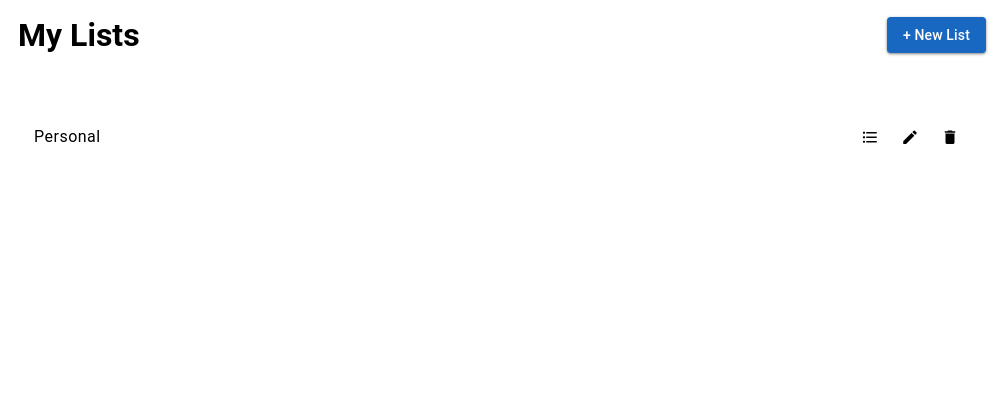
Test: Feature 3 — Todo List Item Management › US-3.2 — View tasks in a list › List items dialog shows empty state
Step 1. Click the button named "View items for Personal" → {"x": 870, "y": 137}, box [850,117,890,157]
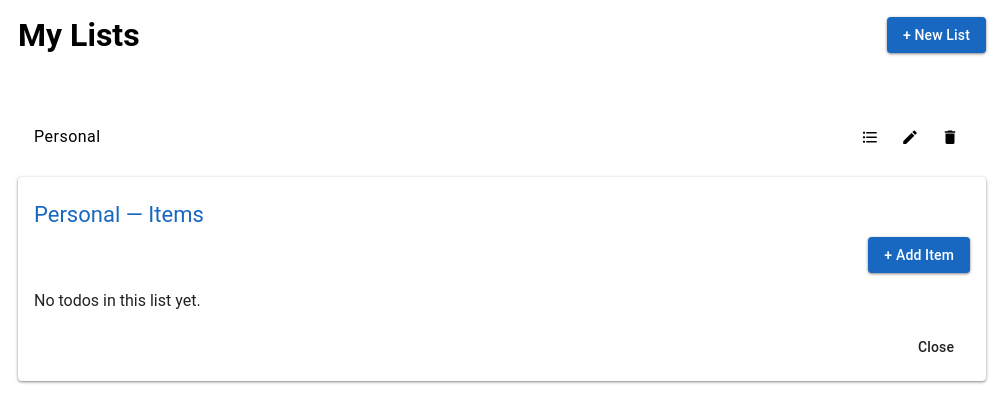
expect the text "No todos in this list yet." is shown: met, box [34,291,201,310]
